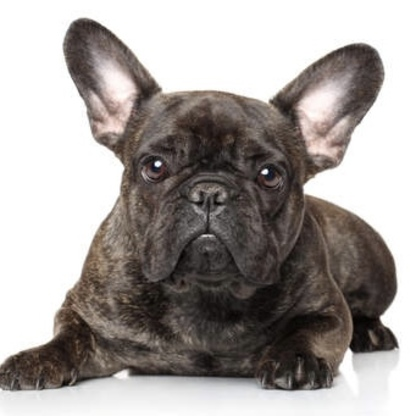bulldog: (25, 16, 404, 397)
